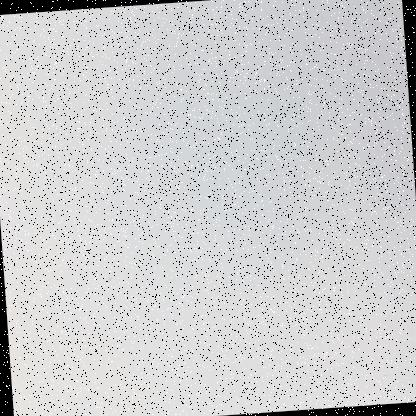Nocrack: (10, 0, 415, 398)
